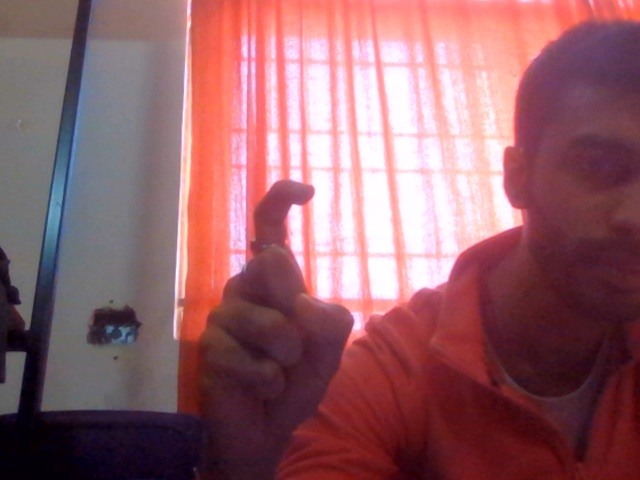X: (175, 177, 418, 480)
